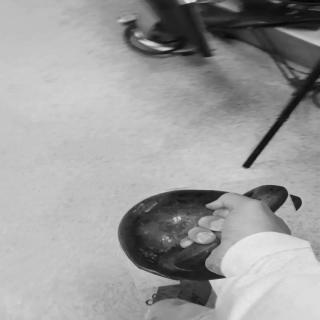kettlebell: (109, 181, 312, 286)
